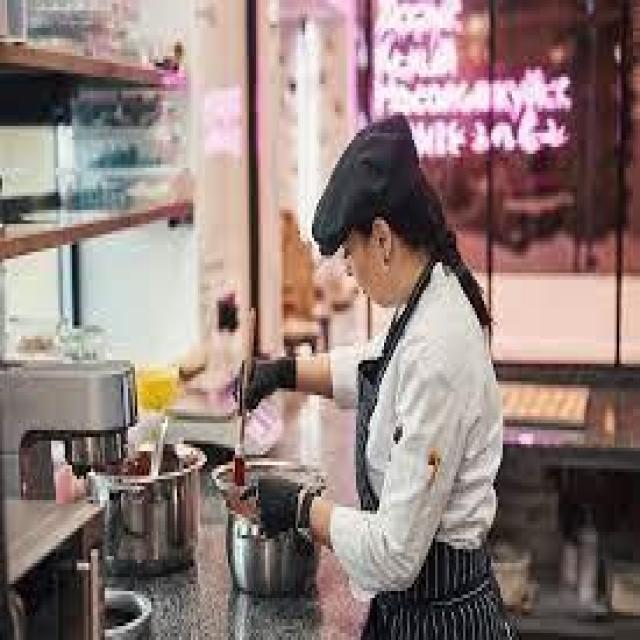apron: (248, 469, 318, 552), (218, 336, 288, 408)
no_gloves: (302, 94, 416, 260)
no_hairnet: (354, 260, 394, 308)
